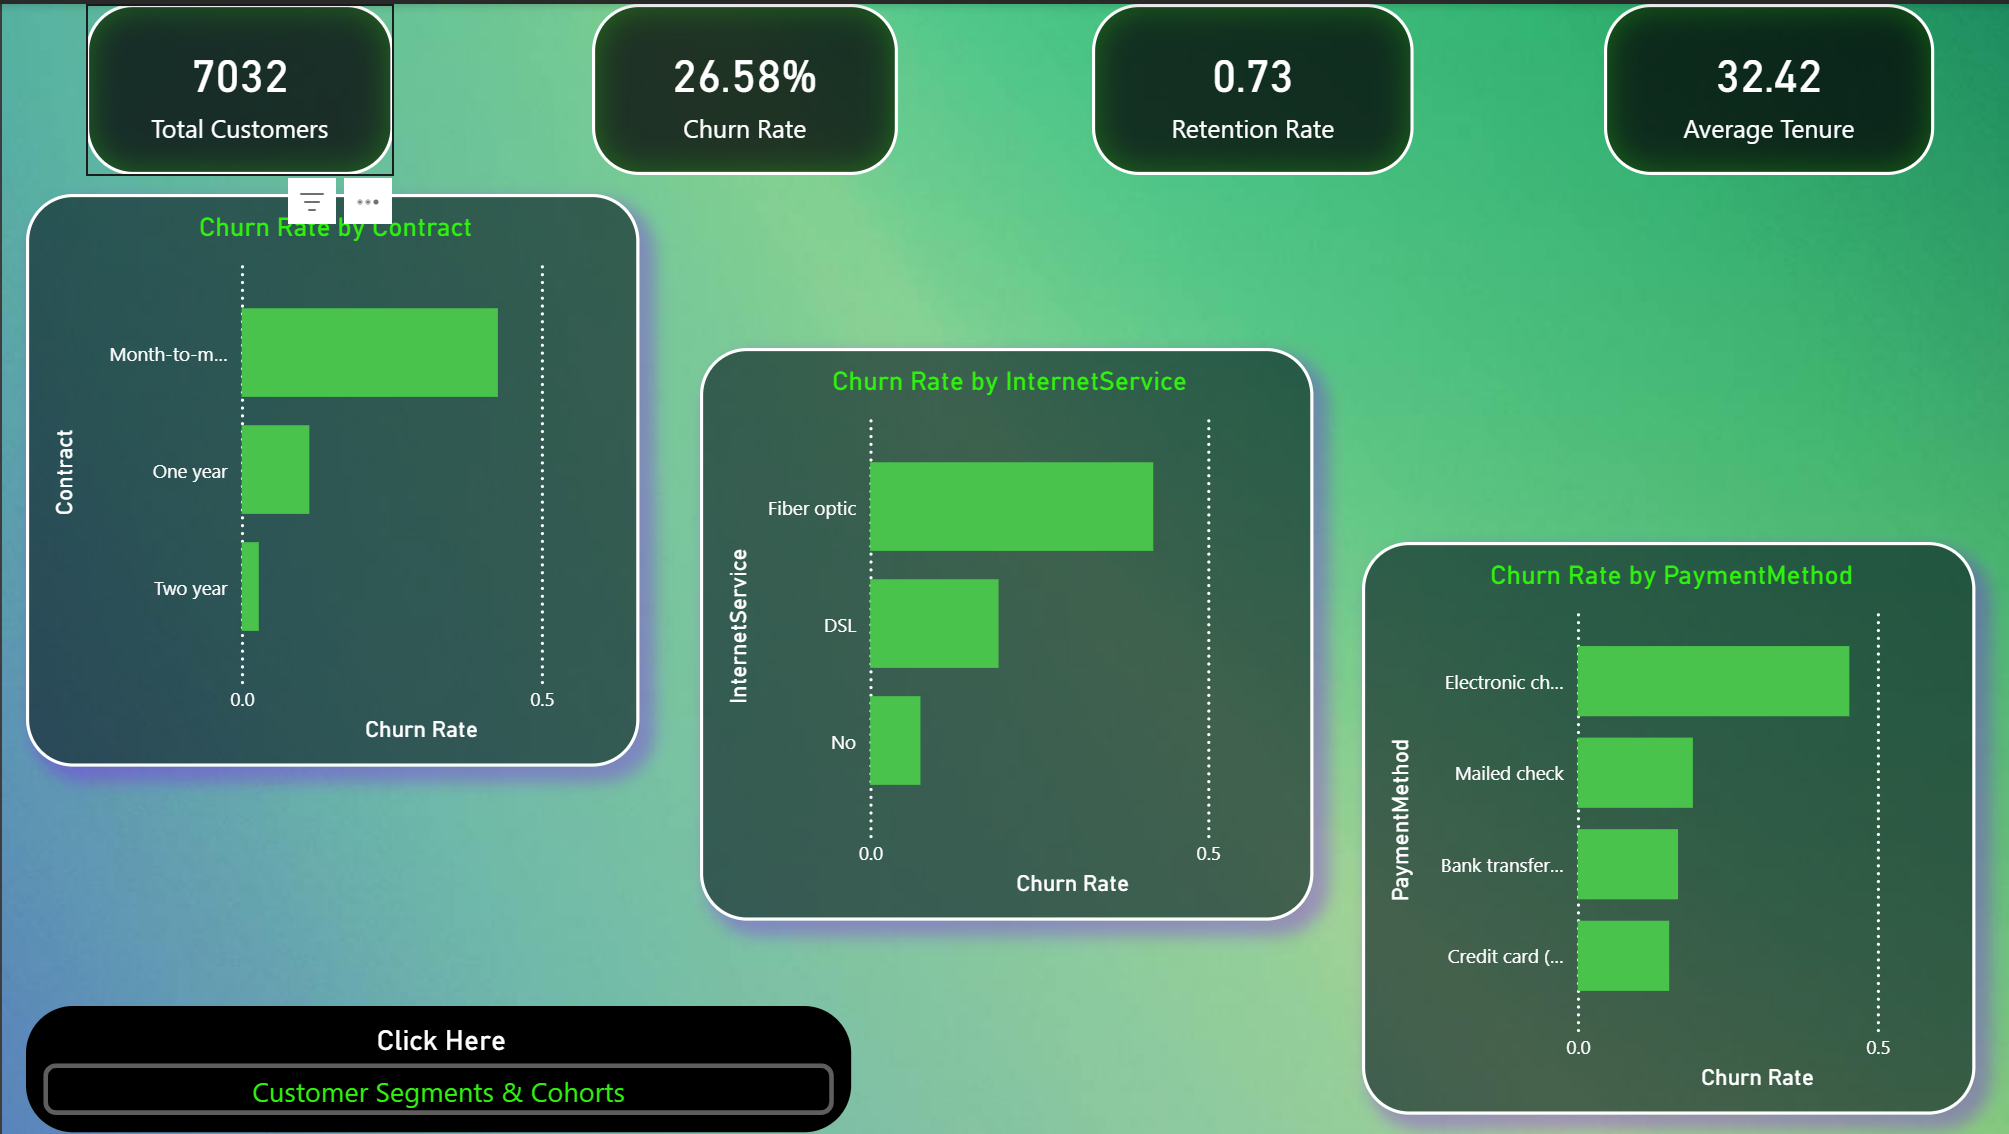

Layout of this report page (visuals, bound fields, positions):
{"tool":"powerbi","page":{"name":"WHY ARE CUSTOMERS LEAVING  ","canvas":[1280,720],"ordinal":1},"visuals":[{"type":"clusteredBarChart","fields":{"Category":["churn.Contract"],"Y":["churn.Churn Rate"]},"box":[15.6,120.8,390.9,364.9],"z":0},{"type":"clusteredBarChart","fields":{"Y":["churn.Churn Rate"],"Category":["churn.InternetService"]},"box":[445.5,219.5,390.9,364.9],"z":1},{"type":"clusteredBarChart","fields":{"Y":["churn.Churn Rate"],"Category":["churn.PaymentMethod"]},"box":[867.5,342.9,390.9,364.9],"z":2},{"type":"card","fields":{"Values":["churn.Total Customers"]},"box":[53.2,0,196.1,109.1],"z":3},{"type":"card","fields":{"Values":["churn.Churn Rate"]},"box":[376.6,0,194.8,109.1],"z":4},{"type":"card","fields":{"Values":["churn.Retention Rate"]},"box":[694.8,0,205.2,109.1],"z":5},{"type":"card","fields":{"Values":["churn.Average Tenure"]},"box":[1020.8,0,210.4,109.1],"z":6},{"type":"actionButton","title":"Click Here","box":[15.6,639,526,80.5],"z":7}]}

Visuals, with their boxes in screenshot pixels (x1, y1, x2, y2), scaled from the page's 1280x720 canvas onto the 2009x1134 screenshot:
clusteredBarChart - churn.Contract x churn.Churn Rate: [24,190,638,765]
clusteredBarChart - churn.Churn Rate x churn.InternetService: [699,346,1313,920]
clusteredBarChart - churn.Churn Rate x churn.PaymentMethod: [1362,540,1975,1115]
card - churn.Total Customers: [83,0,391,172]
card - churn.Churn Rate: [591,0,897,172]
card - churn.Retention Rate: [1091,0,1413,172]
card - churn.Average Tenure: [1602,0,1932,172]
"Click Here" actionButton: [24,1006,850,1133]
